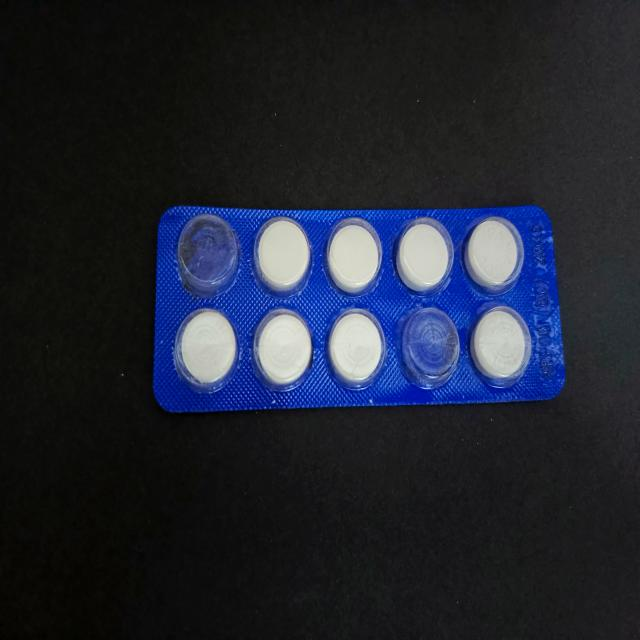defect: (166, 206, 244, 296), (396, 300, 465, 391)
